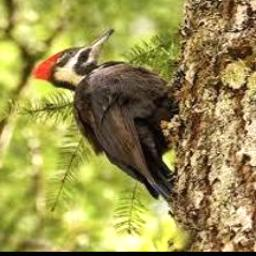Woodpecker: (33, 28, 180, 204)
